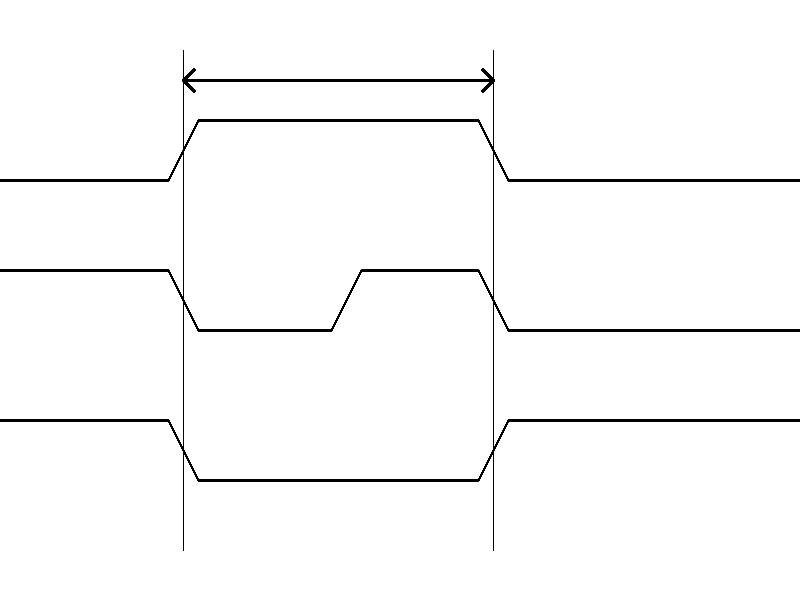double_arrow: (183, 65, 493, 95)
